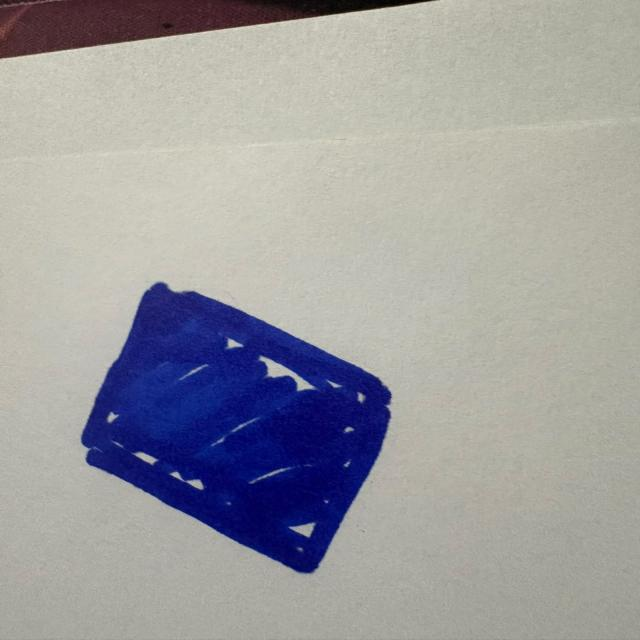Square: (82, 283, 391, 573)
